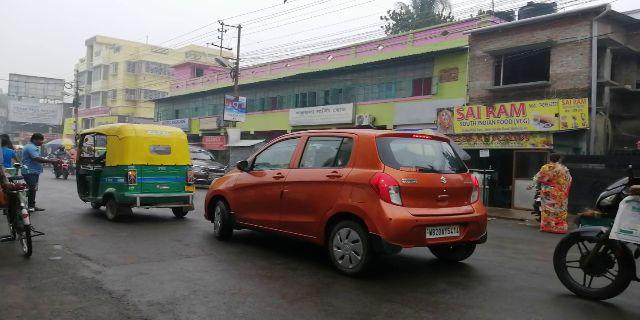Autorickshaw: (71, 125, 199, 222)
Car: (215, 127, 493, 277)
Motorbike: (546, 170, 636, 308)
